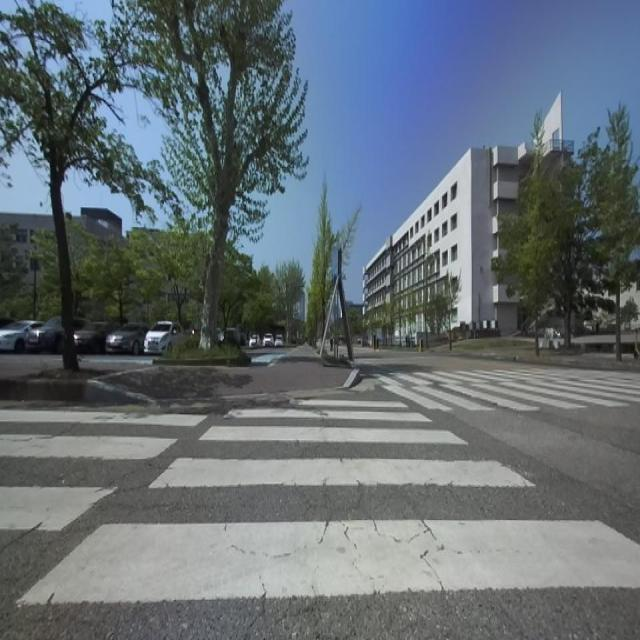sidewalk: (105, 346, 351, 400)
